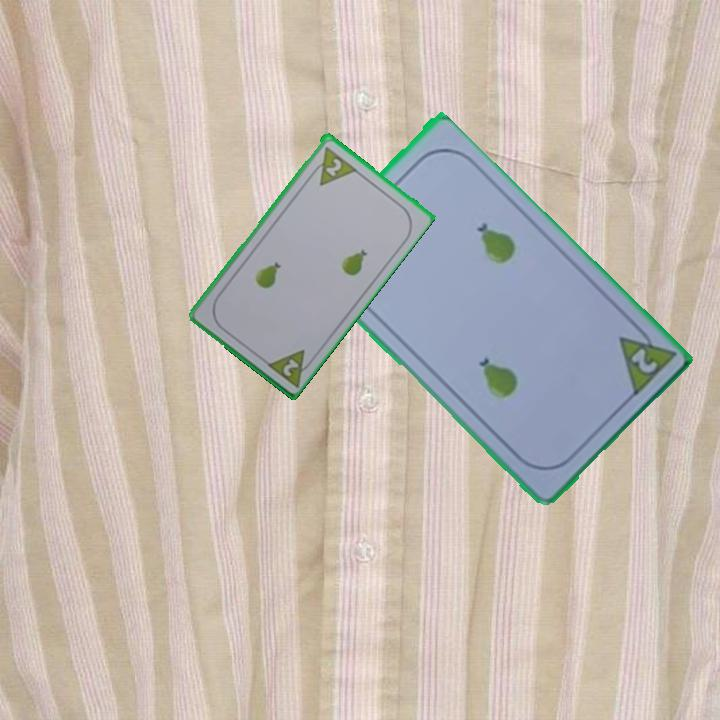2p: (614, 317, 677, 401), (305, 142, 358, 188), (262, 345, 317, 389)
